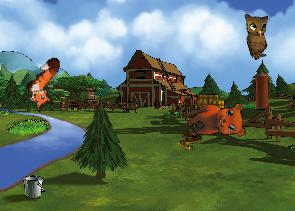bear: (183, 95, 250, 151)
fox: (16, 54, 77, 115)
owl: (239, 8, 279, 61)
